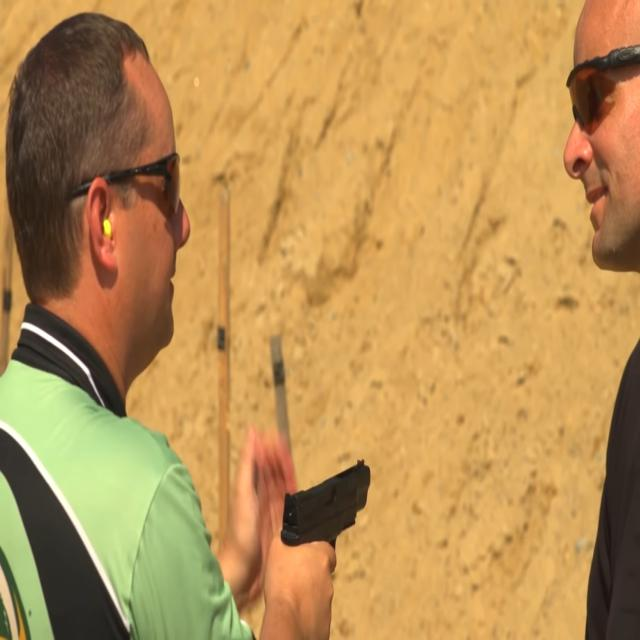Gun_Holder: (258, 434, 374, 602)
Person: (2, 7, 331, 640), (552, 0, 640, 640)
